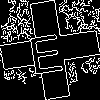E: (25, 25, 65, 75)
